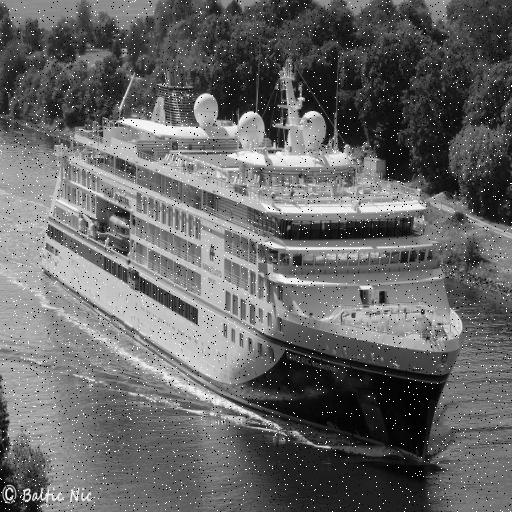cruises: (39, 58, 471, 467)
